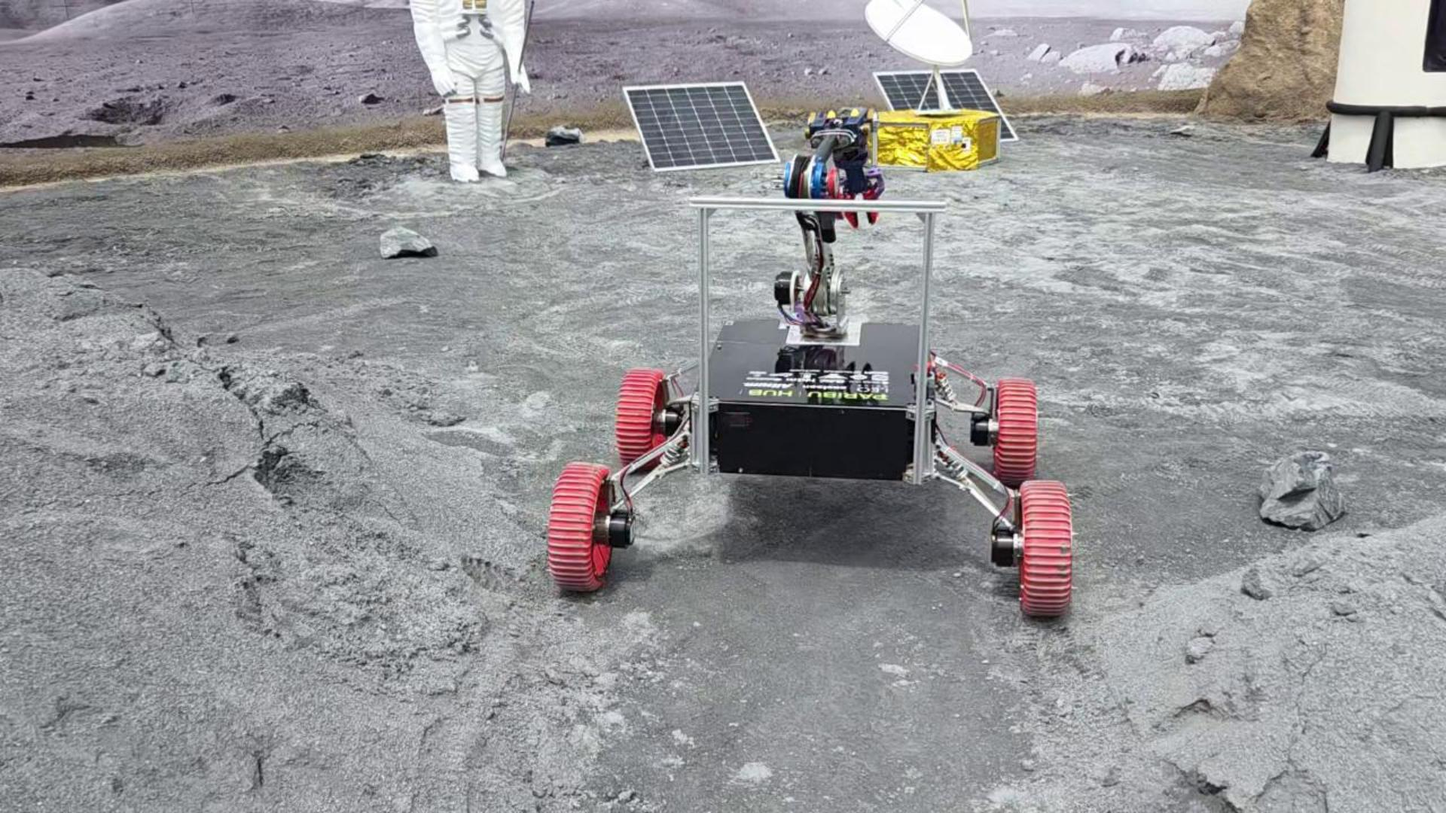rock: (1260, 451, 1345, 531), (380, 226, 437, 257), (545, 126, 582, 147)
